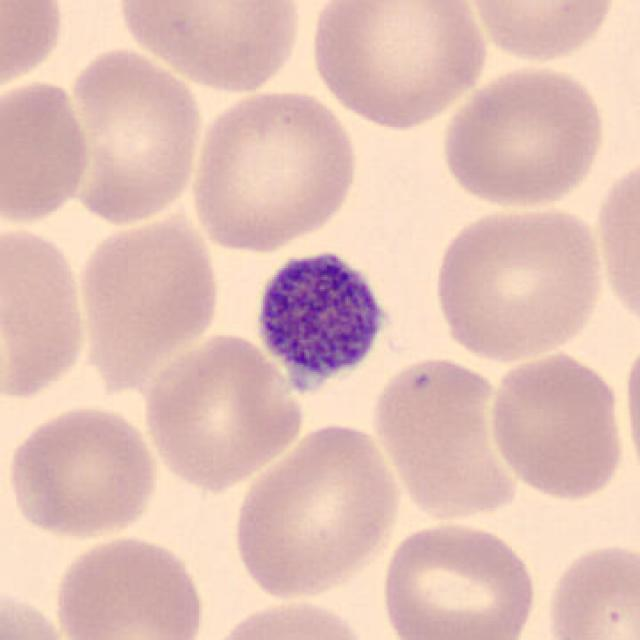Platelets: (246, 236, 398, 406)
RBC: (228, 420, 406, 604), (428, 197, 610, 365), (185, 86, 363, 256), (71, 204, 224, 388), (138, 330, 308, 493), (57, 44, 206, 229), (368, 351, 523, 524), (436, 60, 610, 212), (304, 0, 492, 132), (484, 348, 630, 504), (3, 400, 162, 543), (376, 516, 540, 640), (112, 0, 308, 95), (50, 530, 210, 640), (0, 218, 92, 405), (0, 74, 94, 227), (460, 0, 620, 67), (540, 536, 640, 640), (590, 148, 638, 337), (199, 594, 379, 640), (0, 0, 69, 97), (0, 582, 73, 640), (620, 329, 640, 486)
